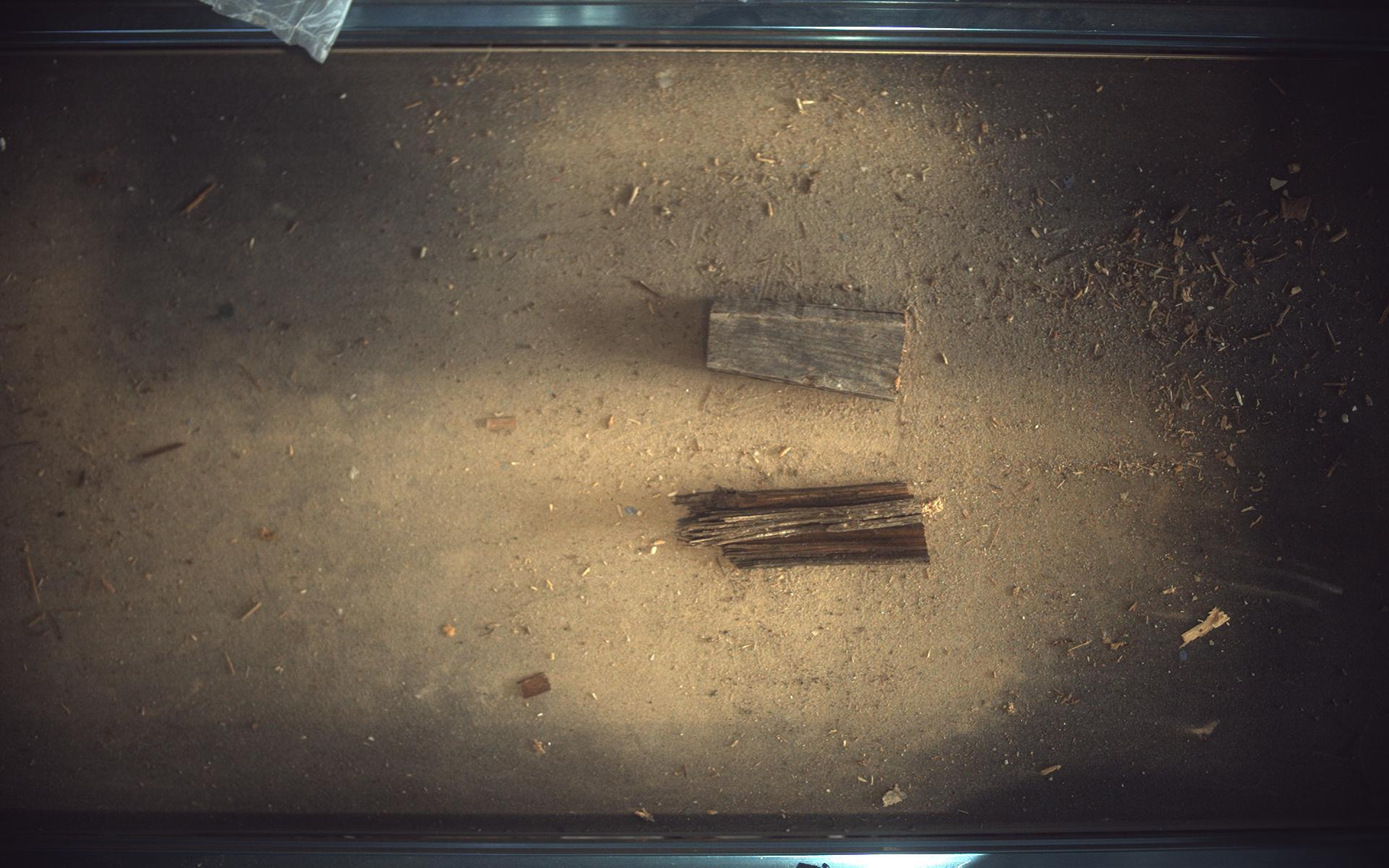wood: (676, 482, 931, 568), (710, 301, 906, 399)
